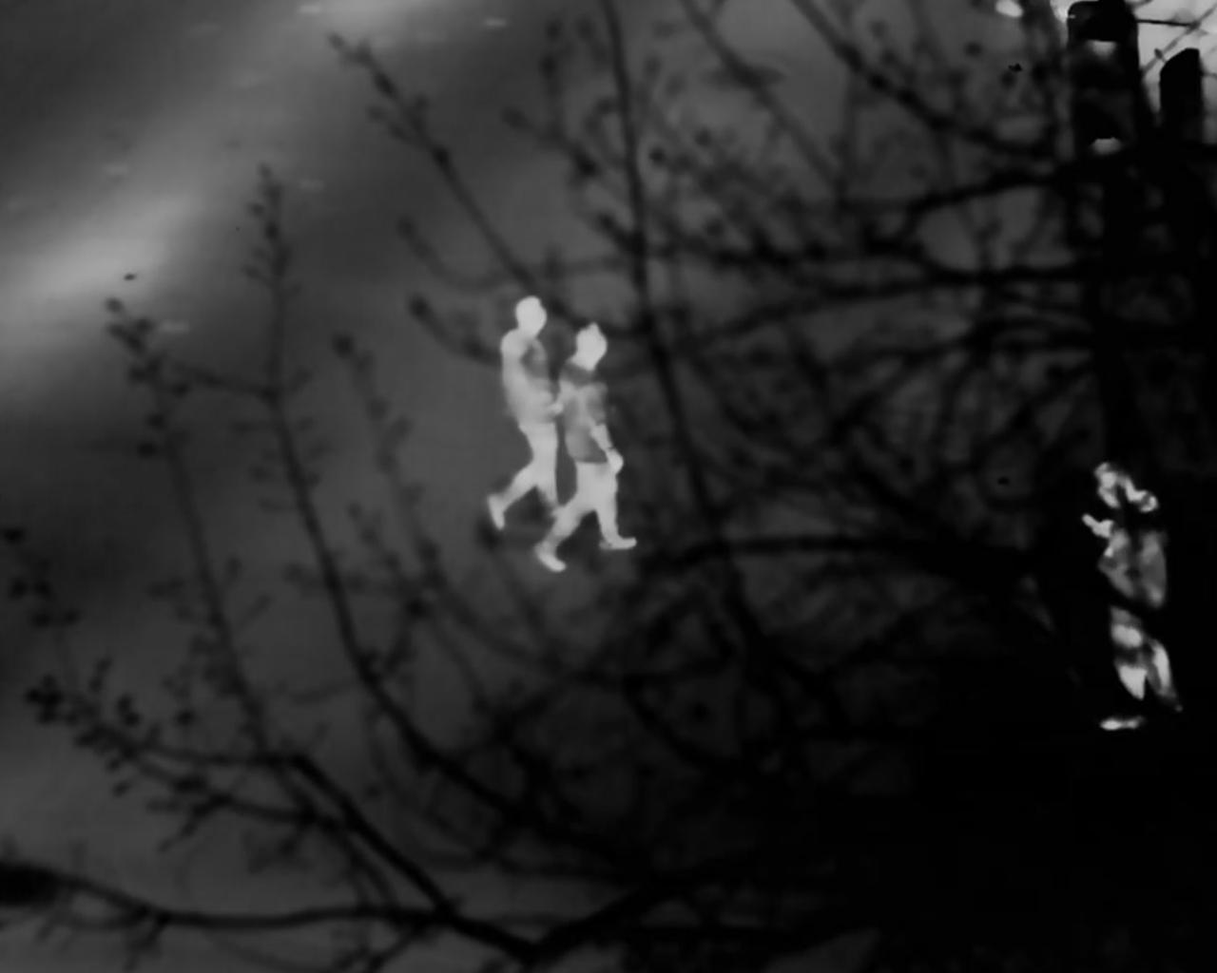person: (1081, 459, 1197, 728), (539, 316, 639, 567), (482, 295, 577, 528)
